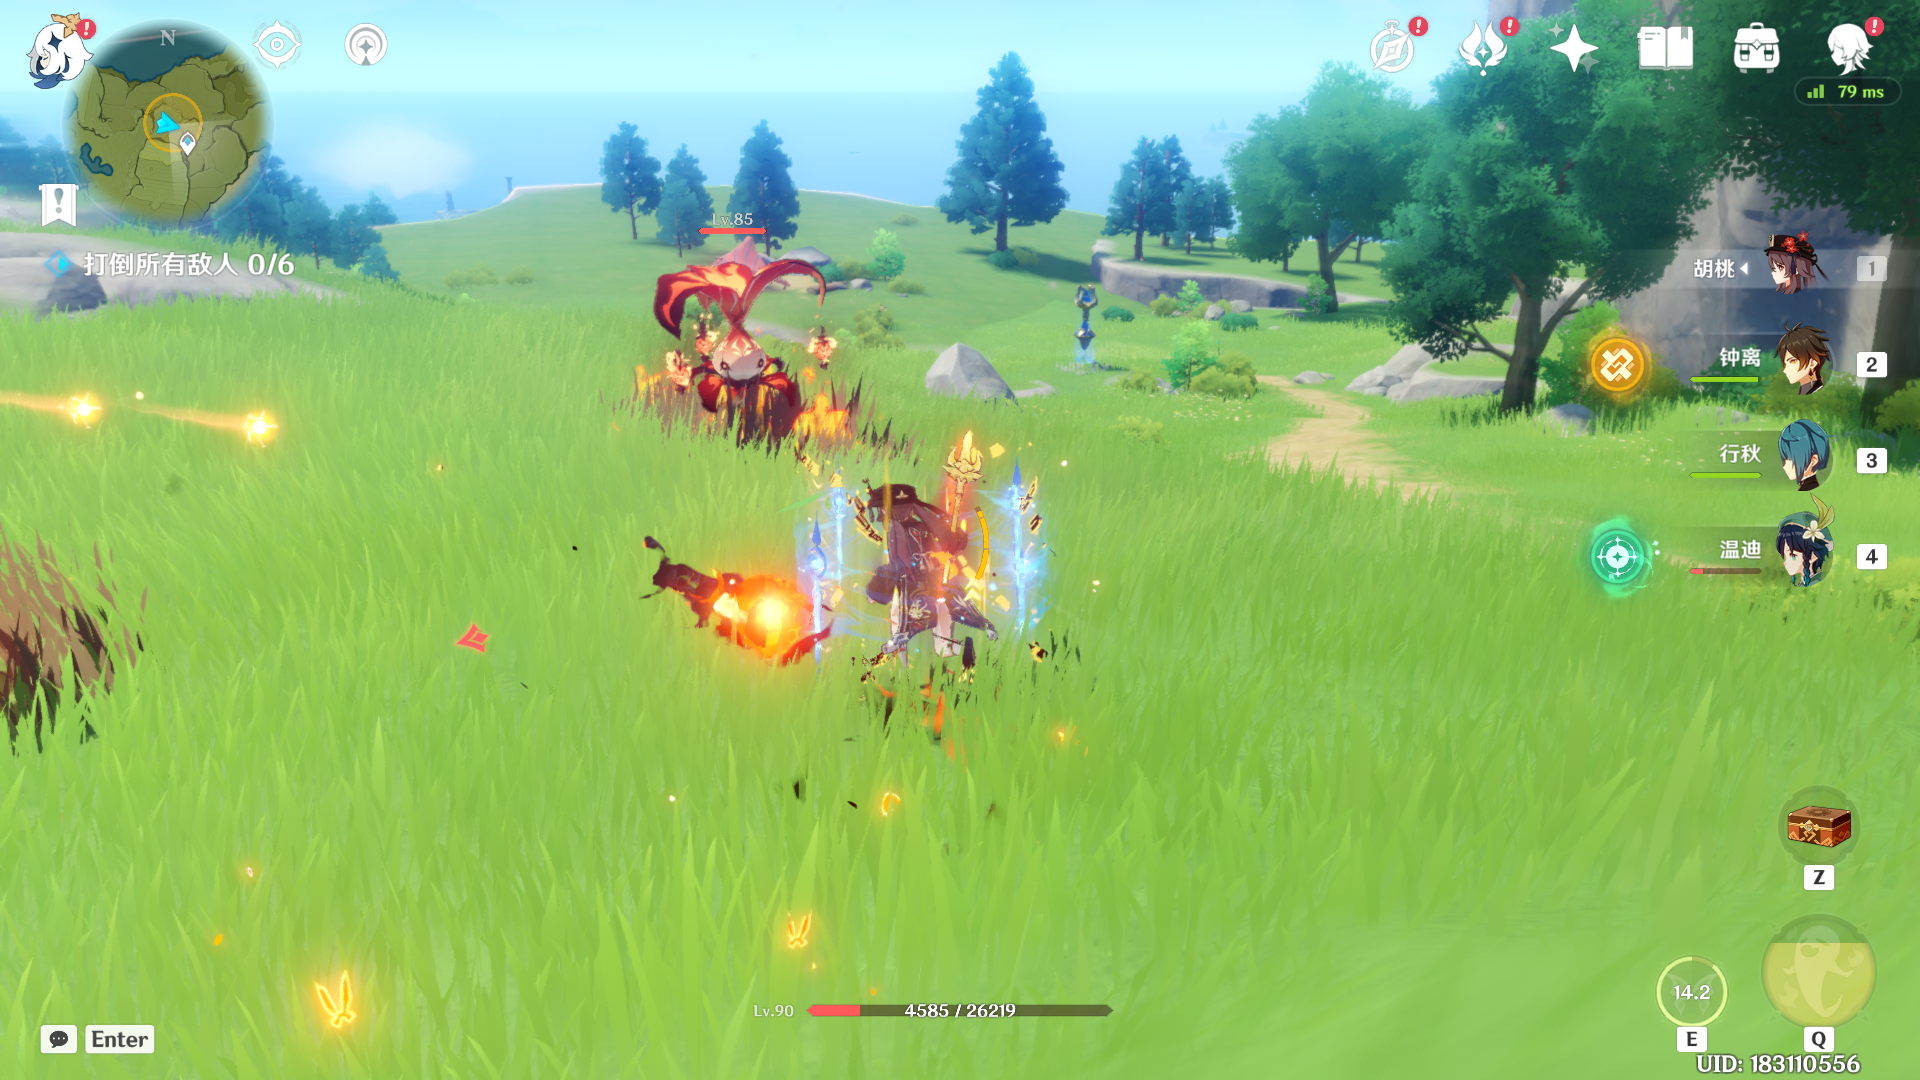character: (786, 404, 1040, 760)
